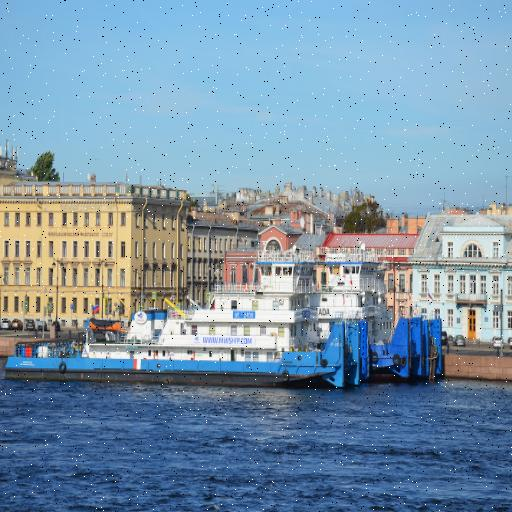tugboat: (1, 240, 375, 402)
